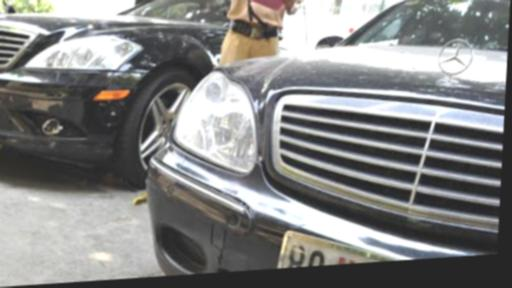License_Plate: (270, 220, 414, 268)
